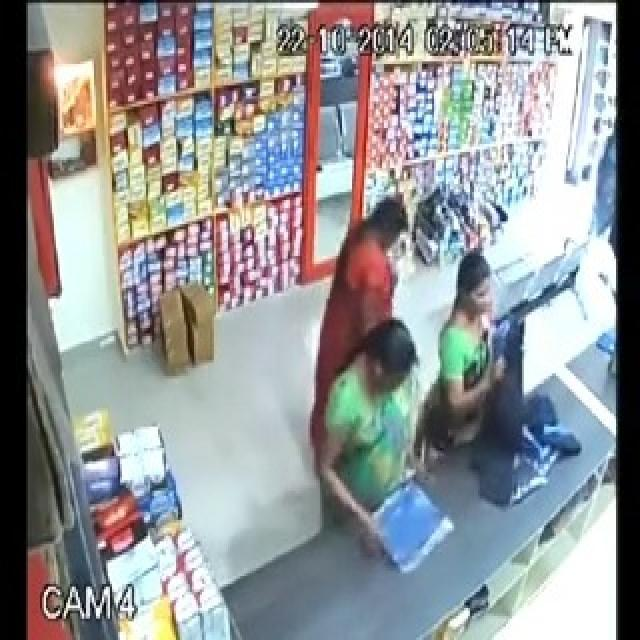normal: (434, 235, 598, 514), (319, 312, 468, 592), (310, 167, 409, 438)
